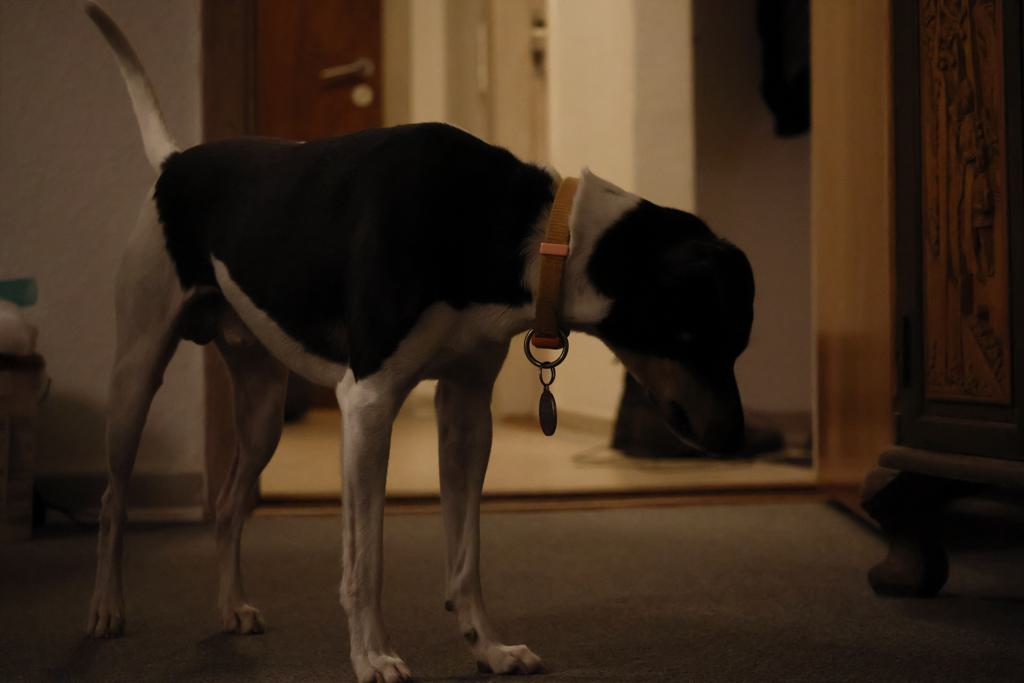Dog: (77, 0, 764, 683)
